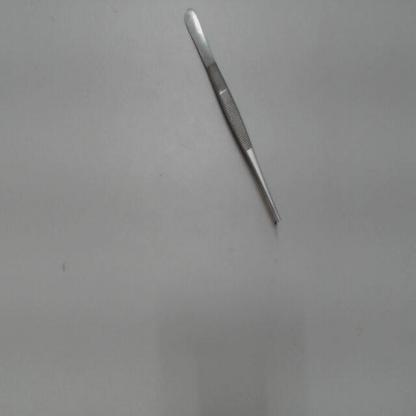Gillies Toothed Dissector: (178, 6, 286, 231)
